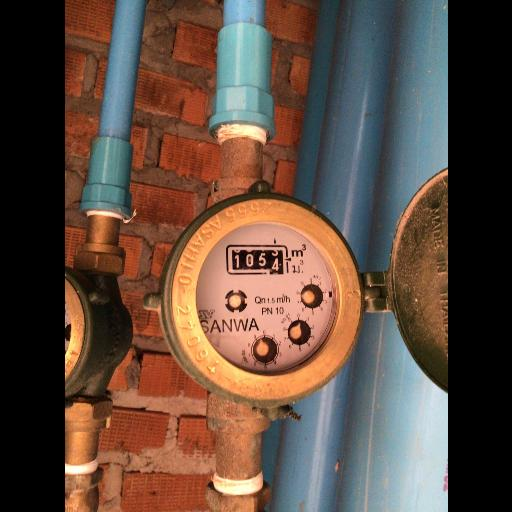0: (244, 249, 255, 269)
1: (231, 249, 242, 270)
4: (269, 250, 282, 275)
5: (255, 250, 267, 270)
border_water_meter_number: (226, 245, 291, 275)
